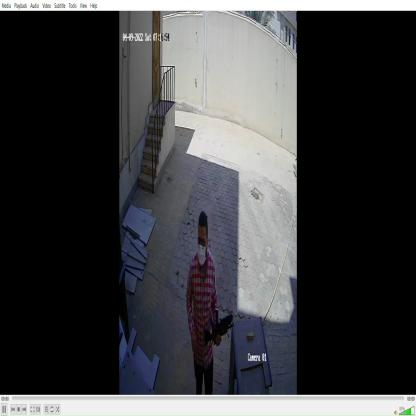handgun: (203, 309, 238, 352)
